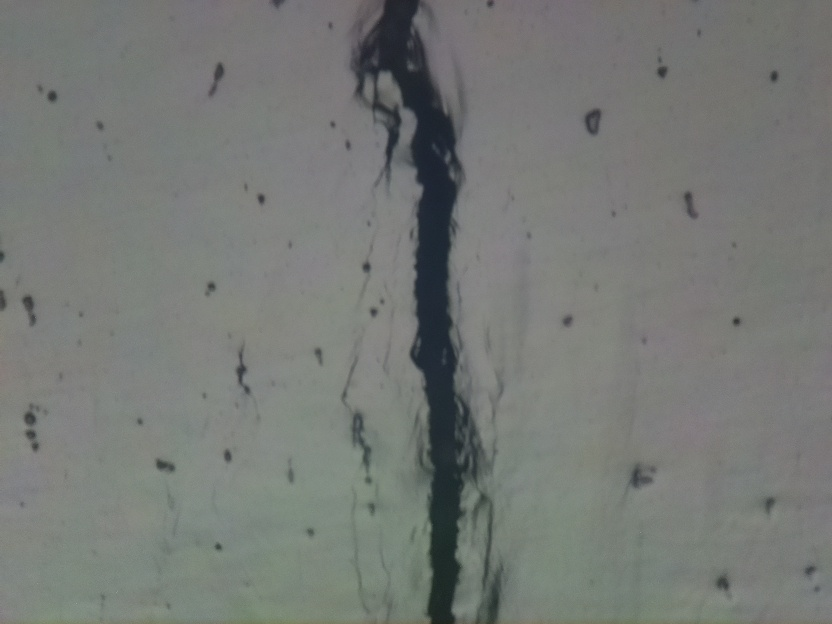crack: (350, 0, 474, 622)
